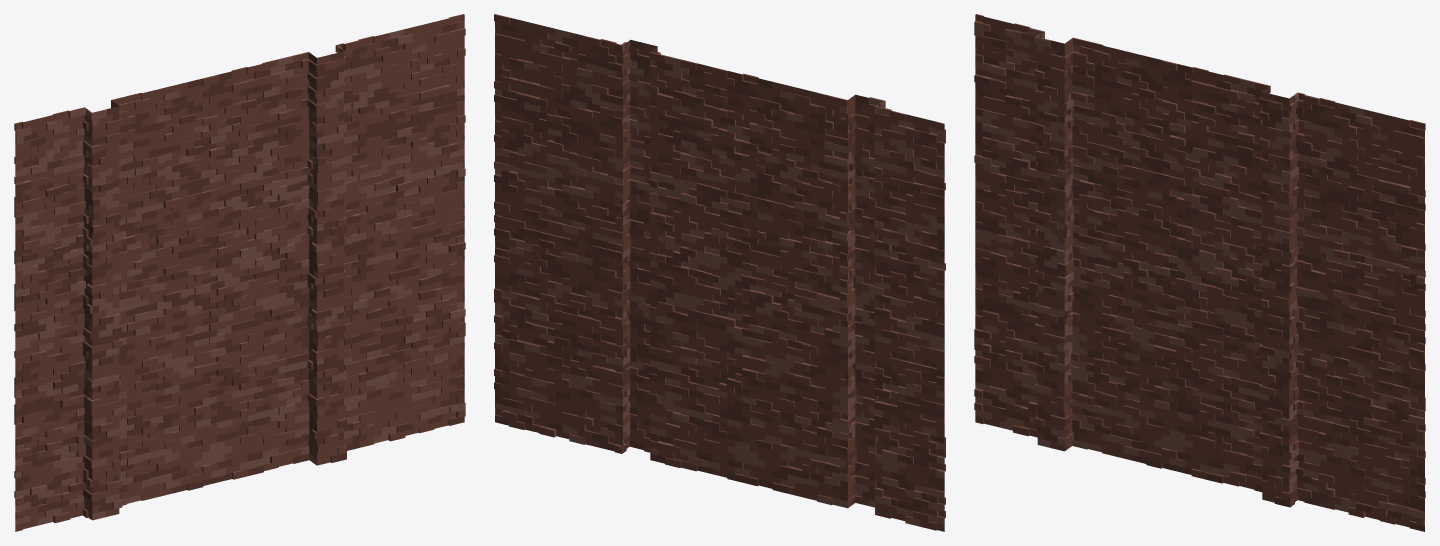
The model's file is ModularWall__Base_noconcrete.fbx.
3 renders of one model, left to right at view 1: azimuth 30°, elevation 25°; view 2: azimuth 150°, elevation 25°; view 3: azimuth 330°, elevation 25°, orthographic.
Parts seen in each view (by area): view 1: ModularWall._Base_noconcrete; view 2: ModularWall._Base_noconcrete; view 3: ModularWall._Base_noconcrete.
Boxes of the visible parts, x1,y1,x2,y2 form: ModularWall._Base_noconcrete: [14, 14, 465, 531]; ModularWall._Base_noconcrete: [494, 14, 945, 531]; ModularWall._Base_noconcrete: [974, 14, 1425, 531].
Size of the model in its own units: 951 by 824 by 34.6.
